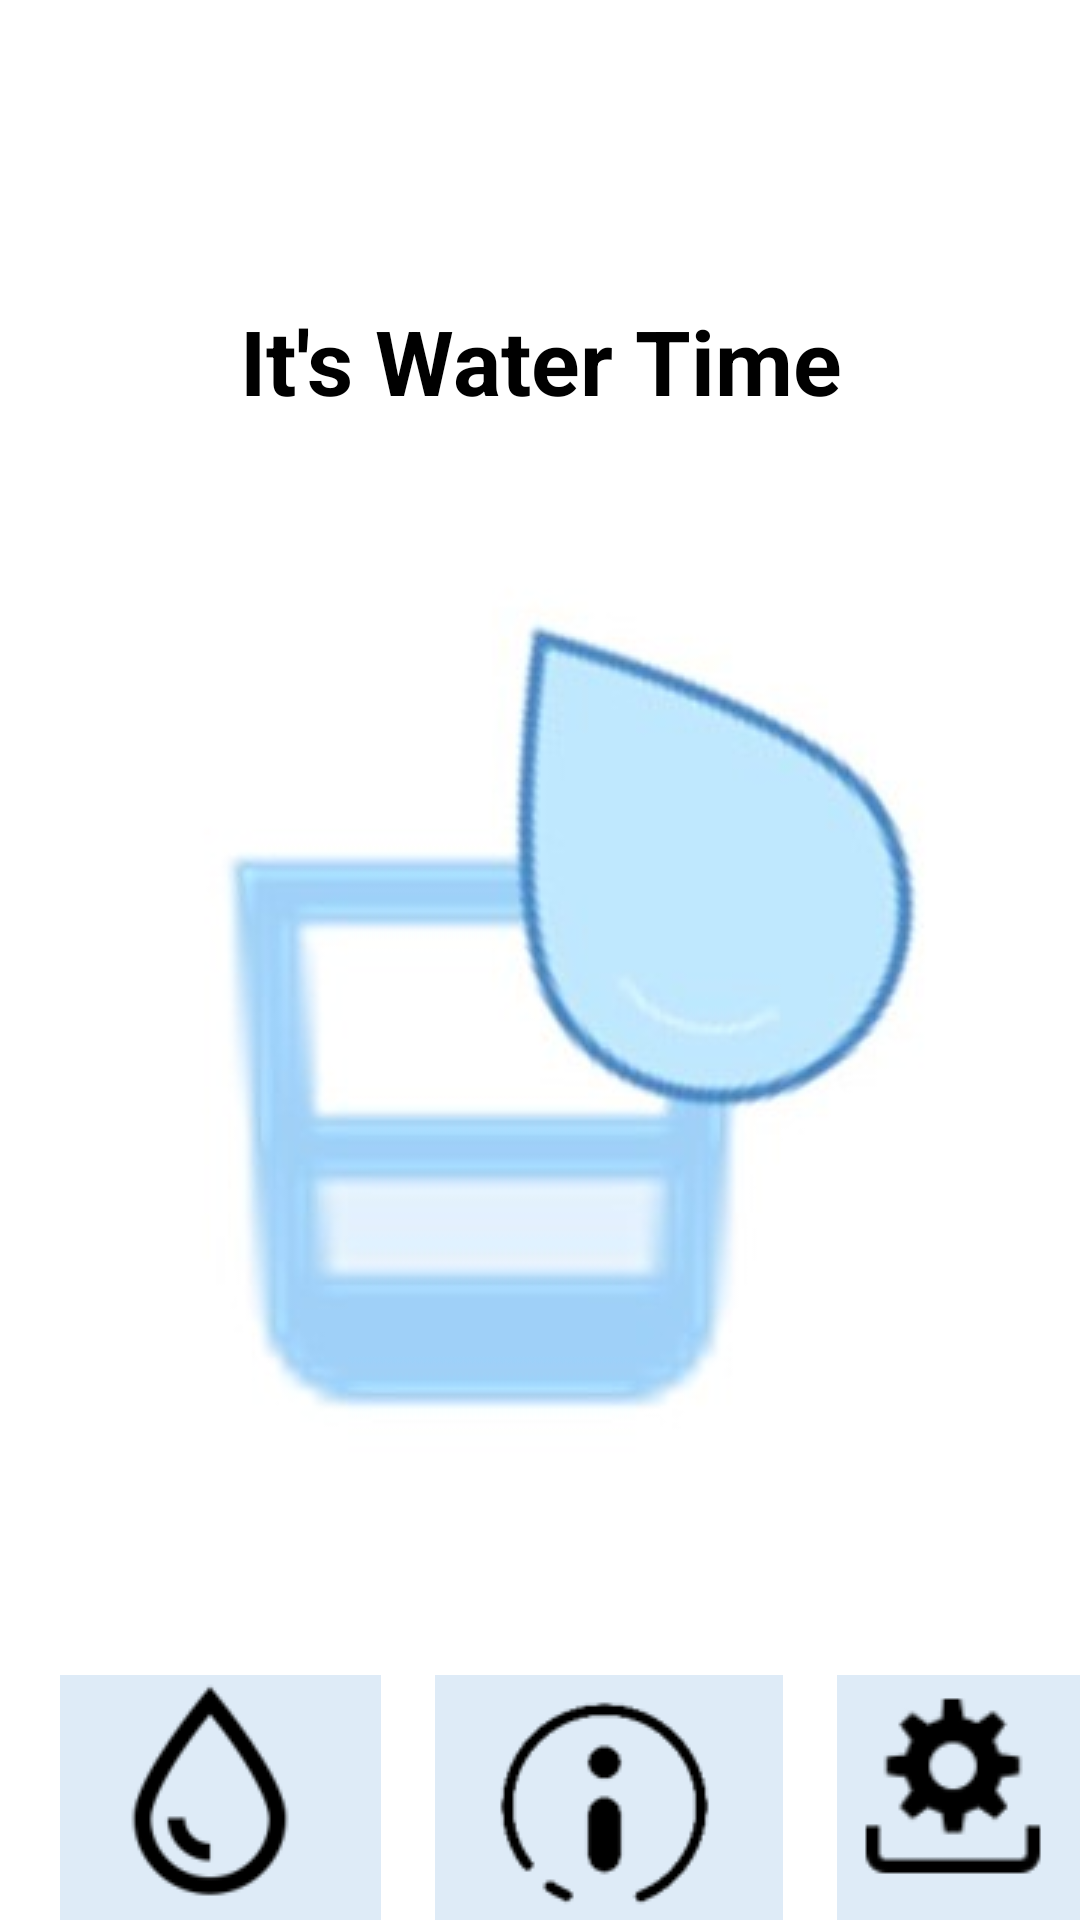

Screen size 1080px×1920px. Icon name, then its box in pixels as {"left": x1, "top": y1, "right": x2, "bottom": y2}:
iconsystem: {"left": 837, "top": 1675, "right": 1080, "bottom": 1920}
iconwater: {"left": 60, "top": 1675, "right": 381, "bottom": 1920}
